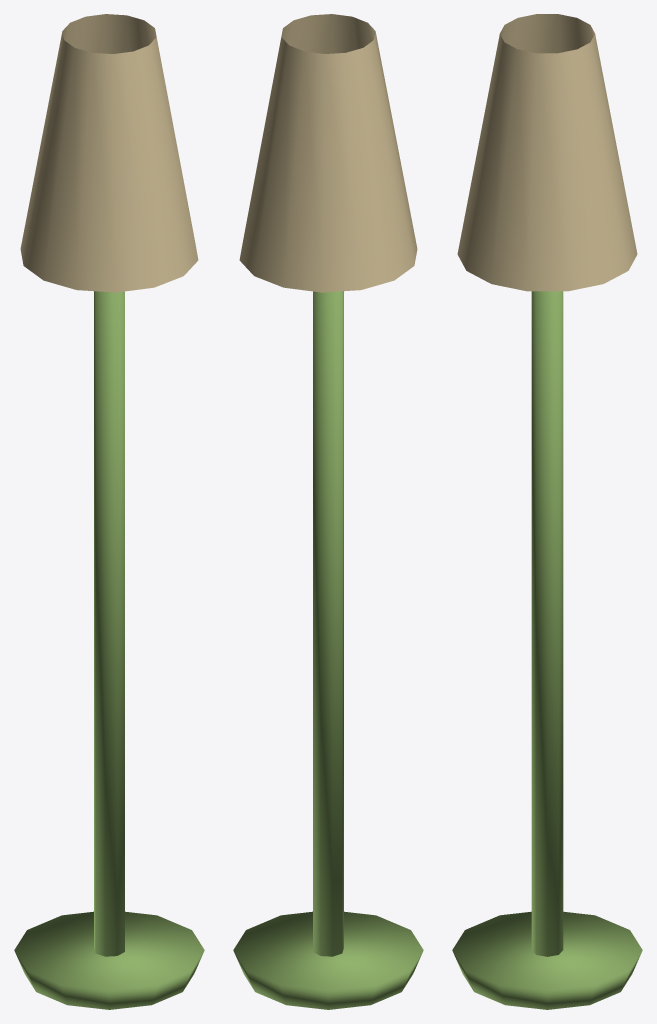
Rendered from cactus_lamp_v0.glb.
The picture shows the model from 3 angles, left to right: view 1: azimuth 30°, elevation 25°; view 2: azimuth 150°, elevation 25°; view 3: azimuth 270°, elevation 25°; orthographic projection.
Parts seen in each view (by area): view 1: cactus_lamp_v0; view 2: cactus_lamp_v0; view 3: cactus_lamp_v0.
Boxes of the visible parts, x1=… form: cactus_lamp_v0: x1=14, y1=14, x2=204, y2=1009; cactus_lamp_v0: x1=233, y1=14, x2=423, y2=1009; cactus_lamp_v0: x1=452, y1=14, x2=642, y2=1009.
Bounding box in the file's own units: 0.36 × 1.96 × 0.36.
